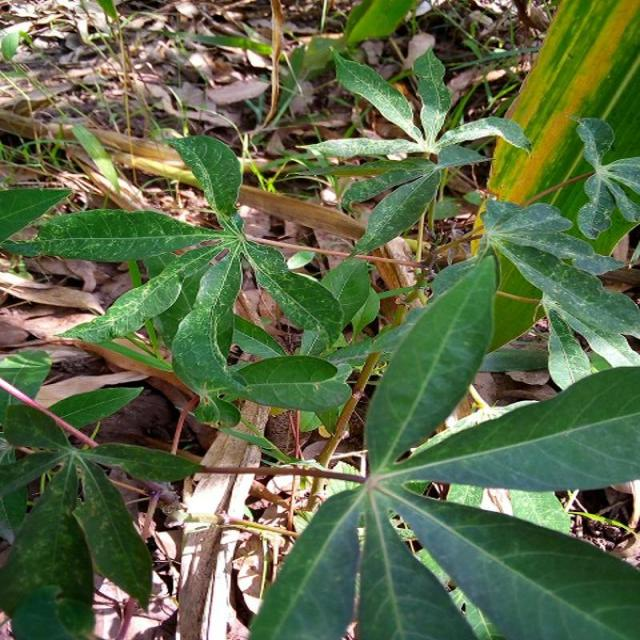cassava leaf: (468, 0, 638, 371), (364, 252, 498, 474)
